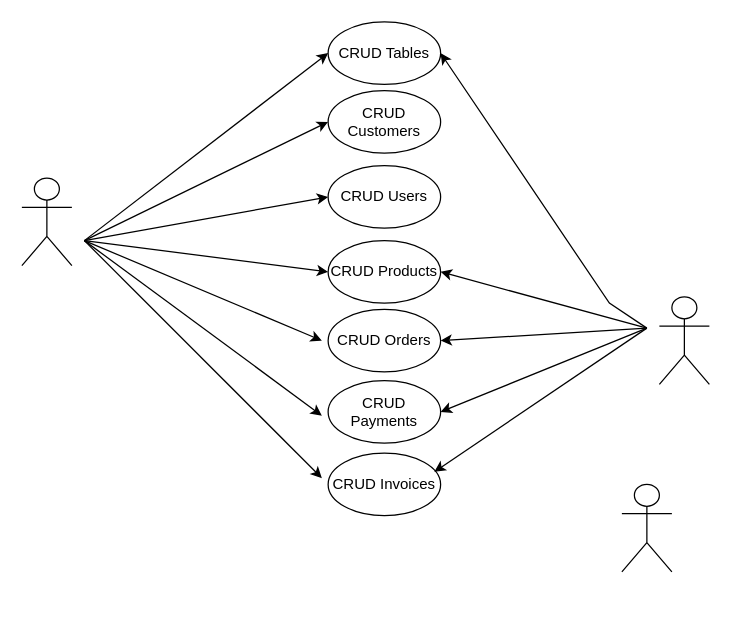
This 731x620 diagram has some shape labels left out. Each missing label, with the centre of its shape:
Admin: pixel 46 221
Customer: pixel 646 527
Users: pixel 683 340
